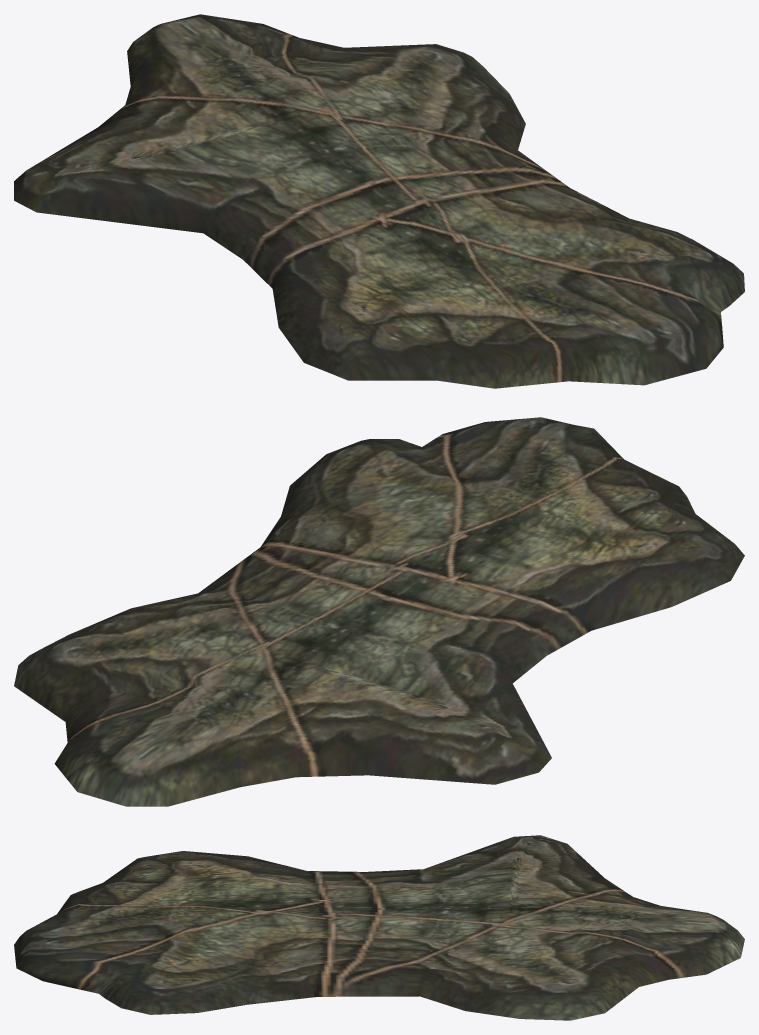
The model's file is con_gen_organic_hide_scaly_l1.fbx.
The picture shows the model from 3 angles, top to bottom: view 1: azimuth 30°, elevation 25°; view 2: azimuth 150°, elevation 25°; view 3: azimuth 270°, elevation 25°; orthographic projection. The views are drawn at different scales.
Visible parts, largest first — view 1: mesh_node; view 2: mesh_node; view 3: mesh_node.
Part boxes in pixels (x1,y1,x2,y2): mesh_node: [14, 14, 744, 388]; mesh_node: [14, 417, 744, 806]; mesh_node: [14, 835, 744, 1020].
Size of the model in its own units: 1.16 by 0.0806 by 1.98.
